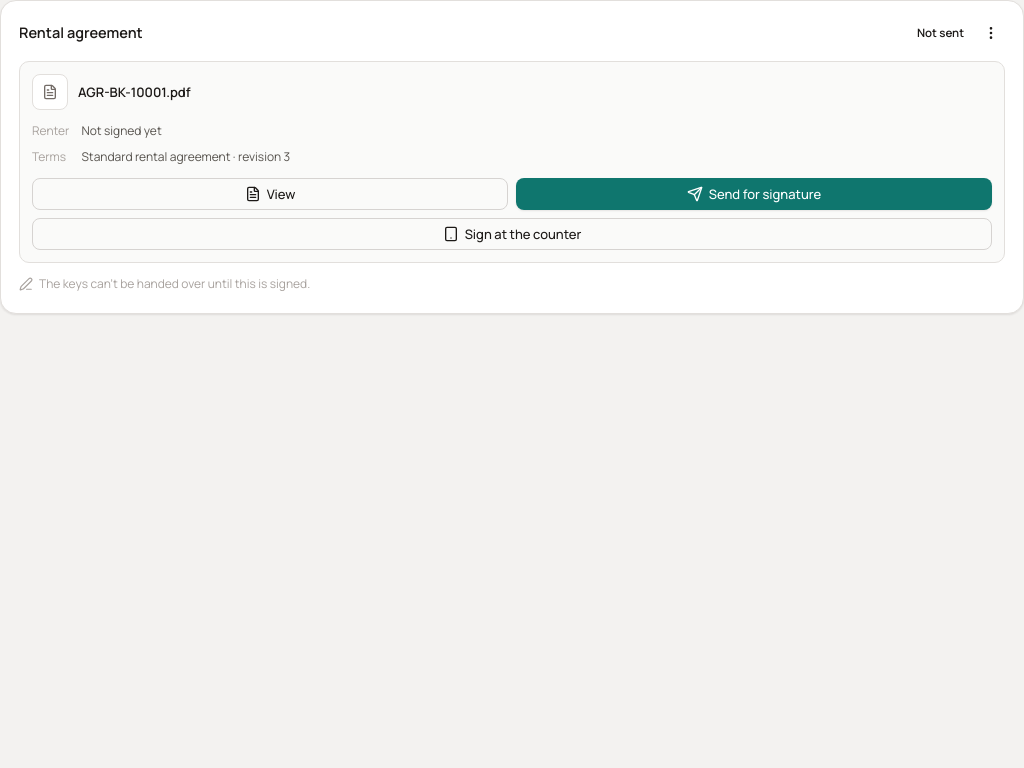
Test: BookingAgreementSection › issues the agreement when it is first sent, then shows the link the renter signs on
Expected: the text "Not signed yet" is shown, [81,122,162,139]
Expected: the text "Standard rental agreement · revision 3" is shown, [81,148,290,165]
Click the button "Send for signature".
click(754, 194)  # box [516,178,992,210]
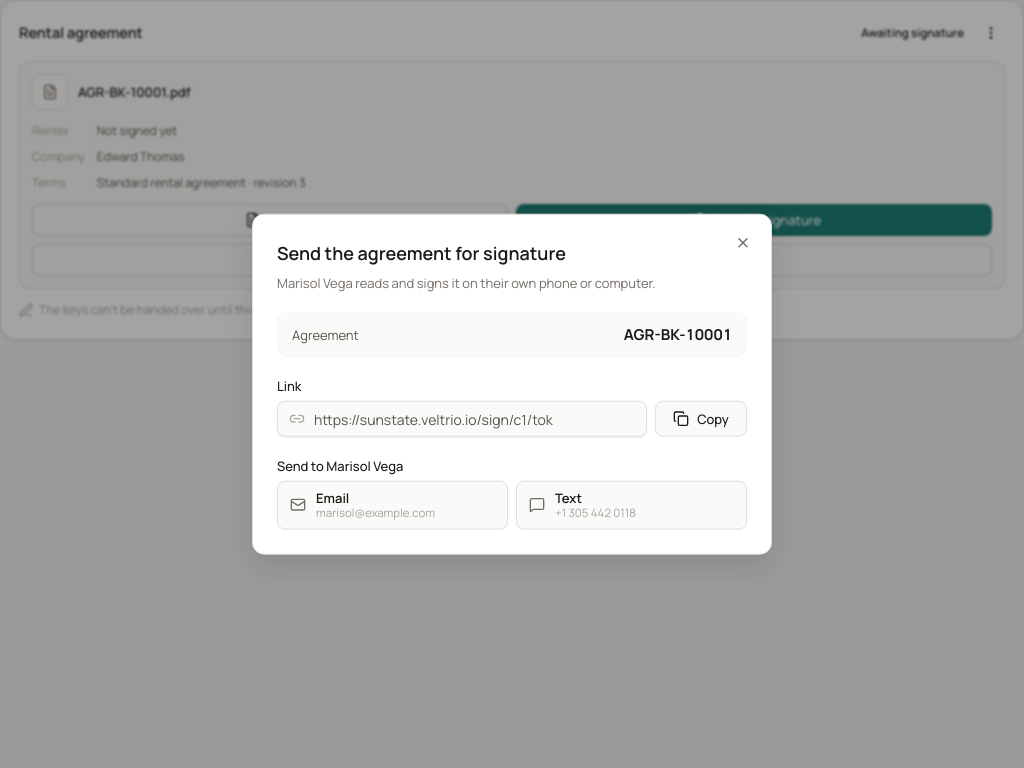
Expected: the heading "Send the agreement for signature" is shown, [277,241,566,265]
